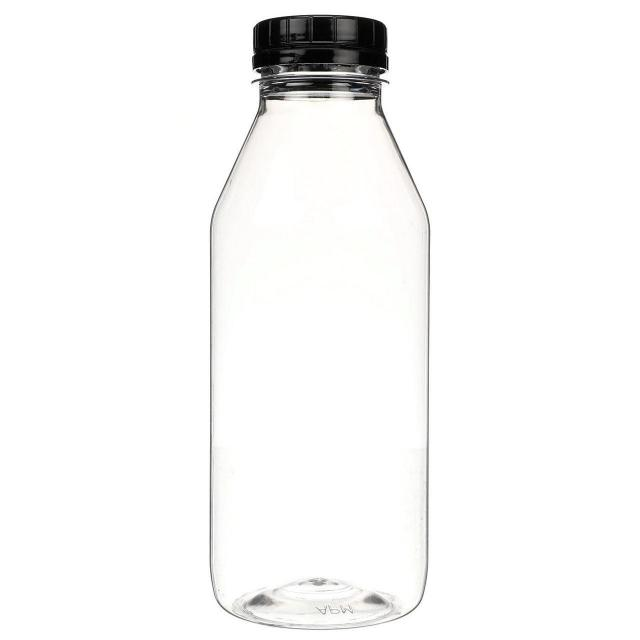plastic_bottle: (199, 10, 441, 626)
